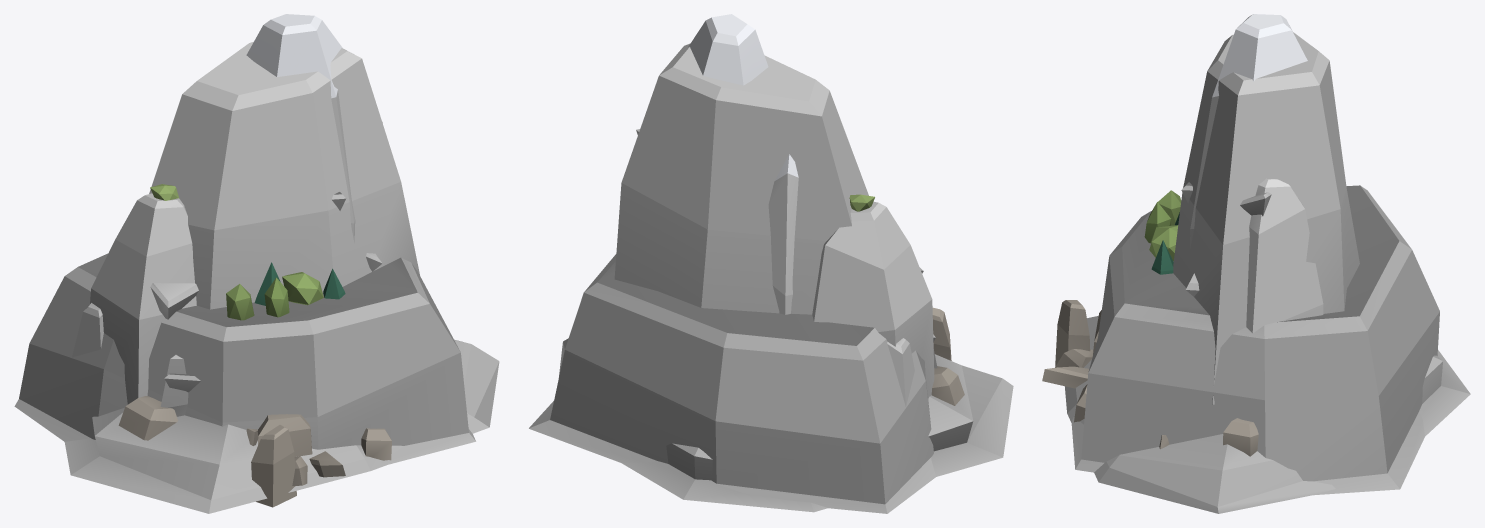
The model's file is crag-fallen-4.glb.
3 views of the same model, side by side, from view 1: azimuth 30°, elevation 25°; view 2: azimuth 150°, elevation 25°; view 3: azimuth 270°, elevation 25° (orthographic). The views are drawn at different scales.
Parts seen in each view (by area): view 1: SaddleBase, SaddleBlock, CragBase, CragTooth0, CragTooth2, SaddleScree3, CragScree7, CragScree1, CragRib1, CragShelf6, CragCrown2, CragTerrace (+4 smaller); view 2: SaddleBase, SaddleBlock, CragTooth0, CragBase, CragTooth2, CragTooth1, CragRib1, CragScree7, SaddleScree3; view 3: SaddleBase, SaddleBlock, CragBase, CragTooth3, CragTooth2, SaddleScree3, CragScree6, CragScree4, CragCrown2, SaddleShrub1, CragScree2, CragPine8 (+1 smaller).
Part boxes in pixels (x1,y1,x2,y2): SaddleBase: (14,253,475,464); SaddleBlock: (149,41,419,309); CragBase: (64,339,499,513); CragTooth0: (90,193,196,404); CragTooth2: (246,14,355,242); SaddleScree3: (251,425,296,507); CragScree7: (118,396,177,440); CragScree1: (257,414,312,456); CragRib1: (72,303,103,357); CragShelf6: (150,282,198,319); CragCrown2: (282,272,323,305); CragTerrace: (160,355,188,416); SaddleBase: (529,254,935,513); SaddleBlock: (614,43,868,314); CragTooth0: (812,201,934,398); CragBase: (559,338,1013,512); CragTooth2: (688,14,768,85); CragTooth1: (768,154,798,314); CragRib1: (887,338,914,406); CragScree7: (931,366,964,405); SaddleScree3: (932,307,951,360); SaddleBase: (1071,185,1439,495); SaddleBlock: (1173,32,1359,404); CragBase: (1065,316,1470,513); CragTooth3: (1246,178,1323,333); CragTooth2: (1190,14,1307,248); SaddleScree3: (1055,300,1090,366); CragScree6: (1223,418,1258,456); CragScree4: (1042,366,1088,388); CragCrown2: (1149,225,1178,260); SaddleShrub1: (1144,202,1170,243); CragScree2: (1055,349,1092,367); CragPine8: (1151,240,1173,274).
Bounding box in the file's own units: 1.92 × 1.66 × 1.57.
